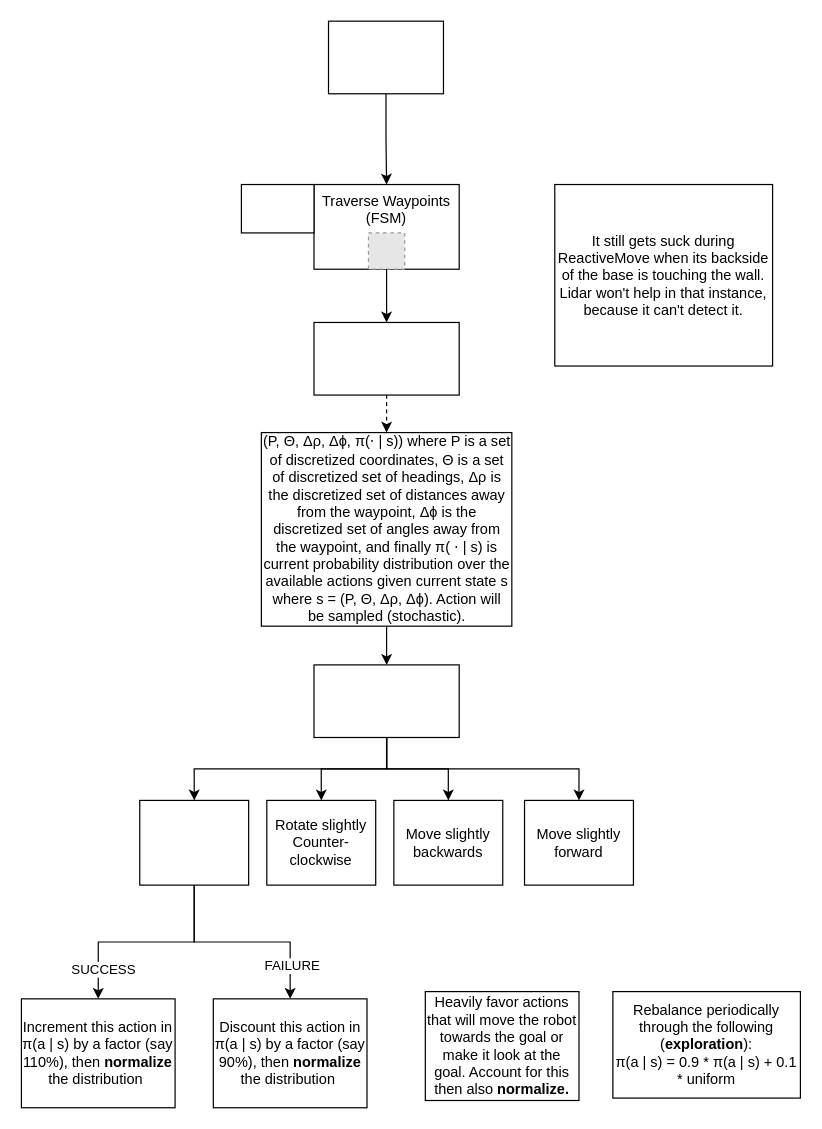
This 822x1129 diagram has some shape labels left out. Grey dashed boxes stand in for pictures. Here are the shapes that lost their labels. From the top down, the box of each, then its label:
(327, 20, 443, 94): Arbitrary Composite
(240, 183, 314, 233): index i
(313, 321, 459, 395): MoveTo WP_i
(313, 664, 459, 737): a ∼ π ( ⋅ ∣ s ) where s = ( P, Θ, Δ ρ , Δ ϕ )
(139, 799, 249, 885): Rotate slightly Clockwise
